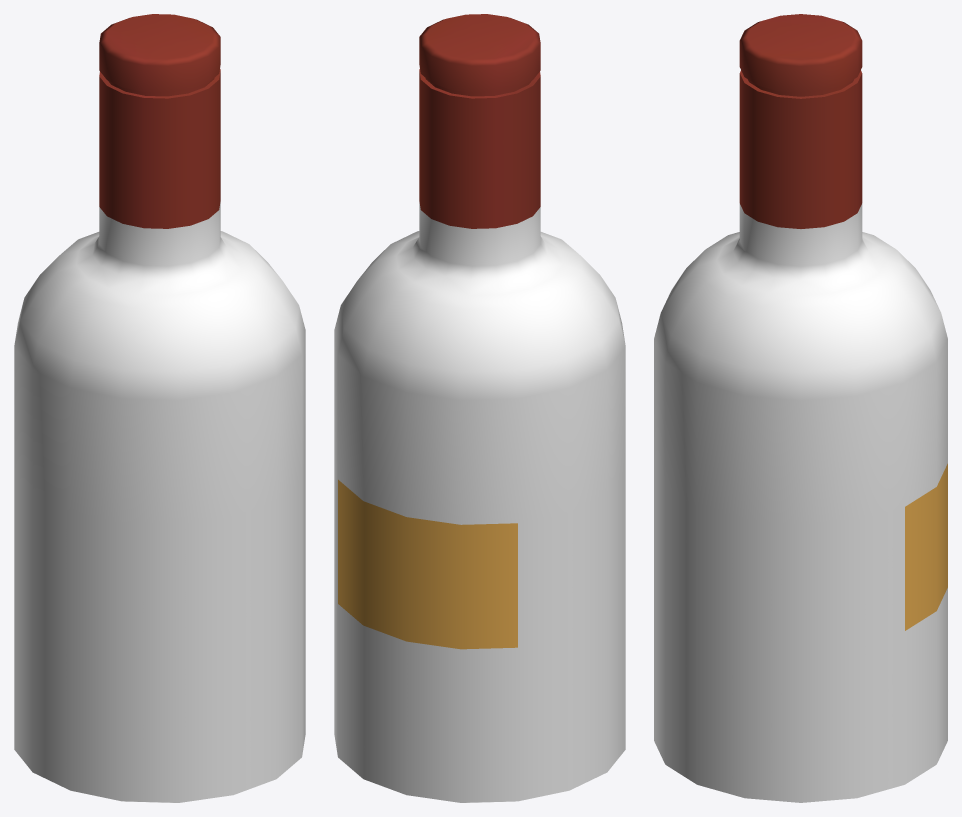
Rendered from SM_Item_FilledGlassBottle_01.obj.
The picture shows the model from 3 angles, left to right: view 1: azimuth 30°, elevation 25°; view 2: azimuth 150°, elevation 25°; view 3: azimuth 270°, elevation 25°; orthographic projection.
Visible parts, largest first — view 1: SM_Item_FilledGlassBottle_01_M_Glass_Inst, SM_Item_FilledGlassBottle_01_mi_CustomPropMain; view 2: SM_Item_FilledGlassBottle_01_M_Glass_Inst, SM_Item_FilledGlassBottle_01_mi_CustomPropMain; view 3: SM_Item_FilledGlassBottle_01_M_Glass_Inst, SM_Item_FilledGlassBottle_01_mi_CustomPropMain.
Boxes of the visible parts, x1,y1,x2,y2 form: SM_Item_FilledGlassBottle_01_M_Glass_Inst: (14, 202, 305, 802); SM_Item_FilledGlassBottle_01_mi_CustomPropMain: (99, 14, 220, 228); SM_Item_FilledGlassBottle_01_M_Glass_Inst: (334, 202, 625, 802); SM_Item_FilledGlassBottle_01_mi_CustomPropMain: (338, 14, 540, 649); SM_Item_FilledGlassBottle_01_M_Glass_Inst: (654, 203, 947, 802); SM_Item_FilledGlassBottle_01_mi_CustomPropMain: (739, 14, 947, 630).
Size of the model in its own units: 0.12 by 0.3221 by 0.12.
3 materials, 1 textured.
